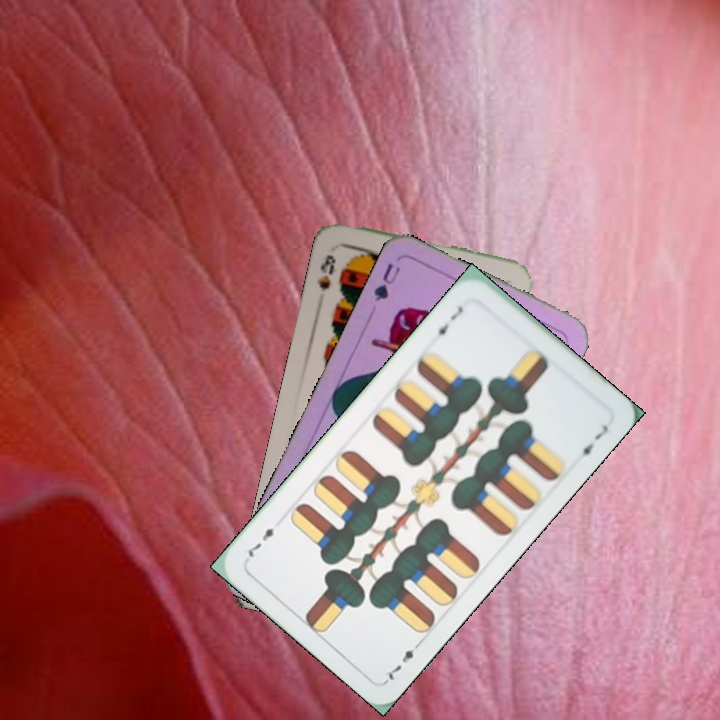E7: (380, 636, 425, 685), (429, 301, 466, 341)
GU: (370, 258, 404, 304)
S8: (313, 250, 339, 293)
